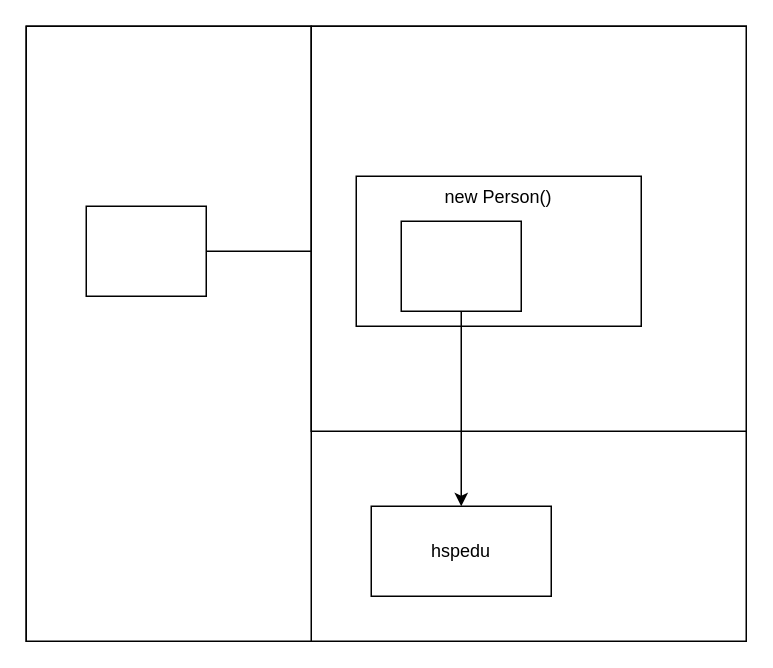
Image size: 773x668. Some labels were removed from this diagram. The shapes that lost their labels are listed below. From the top down, each one's centre as x and y in pixels, then its label:
At (145,250): "p1".
At (460,265): "p1.name".
